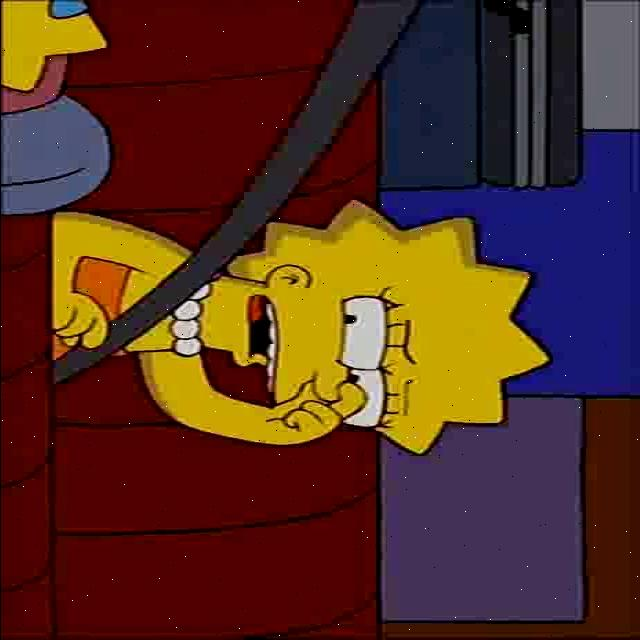Lisa Simpson: (168, 195, 552, 457)
